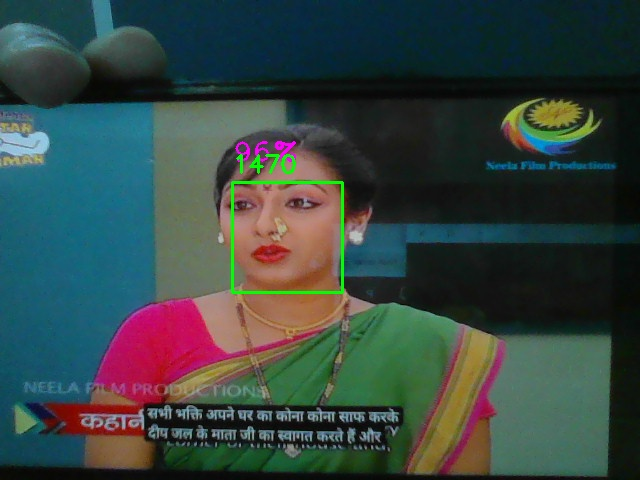fake: (232, 182, 343, 293)
